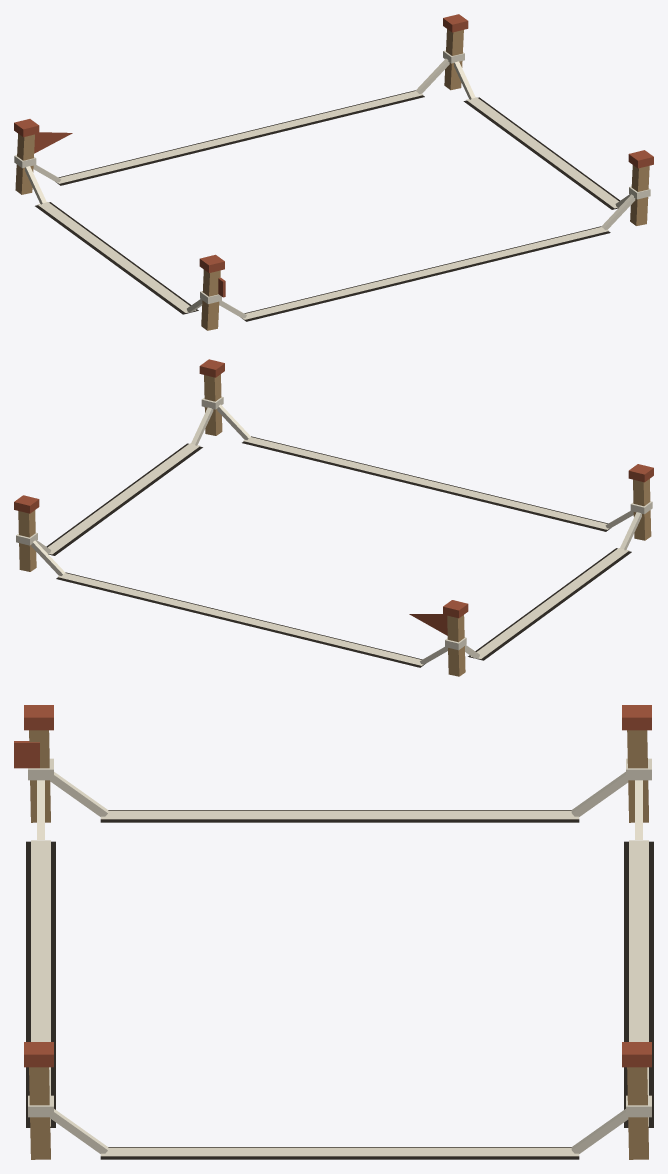
Rendered from plot-stakes.glb.
The picture shows the model from 3 angles, top to bottom: view 1: azimuth 30°, elevation 25°; view 2: azimuth 150°, elevation 25°; view 3: azimuth 270°, elevation 25°; orthographic projection. The views are drawn at different scales.
Parts seen in each view (by area): view 1: cord-n, cord-s, cord-w, cord-e, stake-nw, stake-sw, stake-se, stake-ne; view 2: cord-s, cord-n, cord-w, cord-e, stake-nw, stake-ne, stake-sw, stake-se; view 3: cord-e, cord-w, cord-n, cord-s, stake-sw, stake-se, stake-ne, stake-nw.
Part boxes in pixels (x1,y1,x2,y2): cord-n: [33, 58, 449, 185]; cord-s: [219, 194, 635, 321]; cord-w: [25, 166, 202, 314]; cord-e: [454, 61, 630, 209]; stake-nw: [14, 119, 72, 194]; stake-sw: [199, 254, 225, 330]; stake-se: [628, 150, 653, 225]; stake-ne: [443, 14, 468, 90]; cord-s: [217, 404, 633, 531]; cord-n: [31, 540, 447, 667]; cord-w: [465, 512, 641, 660]; cord-e: [36, 407, 213, 555]; stake-nw: [409, 600, 468, 676]; stake-ne: [14, 495, 39, 571]; stake-sw: [628, 464, 653, 540]; stake-se: [199, 359, 224, 435]; cord-e: [50, 1109, 628, 1159]; cord-w: [50, 772, 628, 822]; cord-n: [624, 780, 653, 1127]; cord-s: [26, 780, 55, 1127]; stake-sw: [14, 705, 53, 822]; stake-se: [24, 1042, 53, 1159]; stake-ne: [622, 1042, 651, 1159]; stake-nw: [622, 705, 651, 822].
Size of the model in its own units: 8.34 by 1.21 by 6.42.
1 material, 1 textured.
